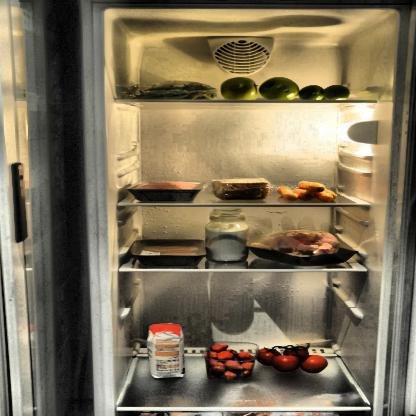apple: (219, 73, 300, 101)
carrot: (277, 181, 340, 203)
chicken: (248, 229, 344, 266), (135, 240, 202, 258)
green_beans: (134, 80, 214, 104)
ground_beef: (128, 180, 199, 202)
lime: (298, 84, 356, 101)
strawberries: (206, 343, 256, 382)
tomato: (257, 342, 328, 374)
